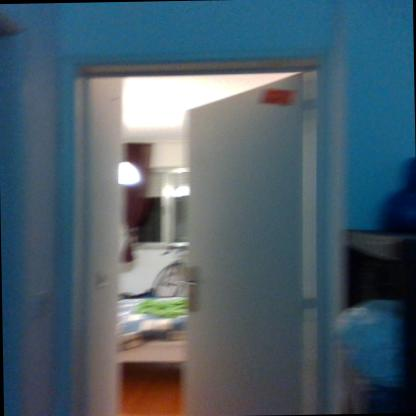semi: (60, 51, 341, 416)
